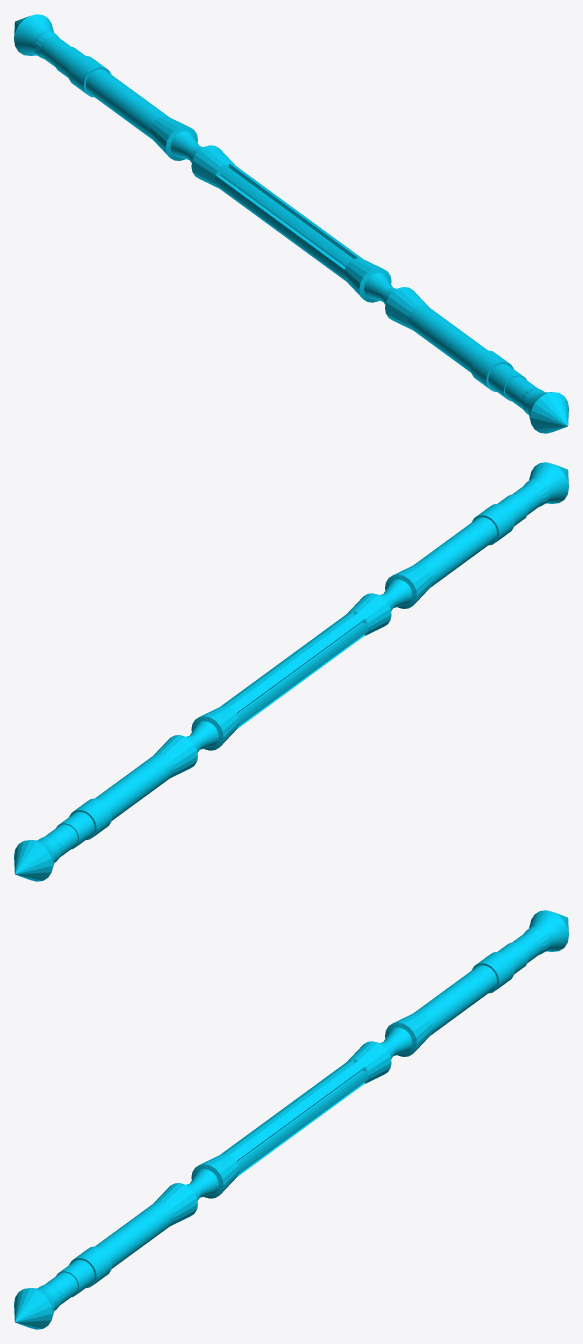
Rendered from PoleMain.fbx.
3 renders of one model, top to bottom at view 1: azimuth 30°, elevation 25°; view 2: azimuth 150°, elevation 25°; view 3: azimuth 330°, elevation 25°, orthographic.
Visible parts, largest first — view 1: Pole_low; view 2: Pole_low; view 3: Pole_low.
Part boxes in pixels (box(x1,y1,x2,y2)): Pole_low: box(14, 14, 568, 433); Pole_low: box(14, 462, 568, 881); Pole_low: box(14, 910, 568, 1329).
Bounding box in the file's own units: 104 × 102 × 2554.
